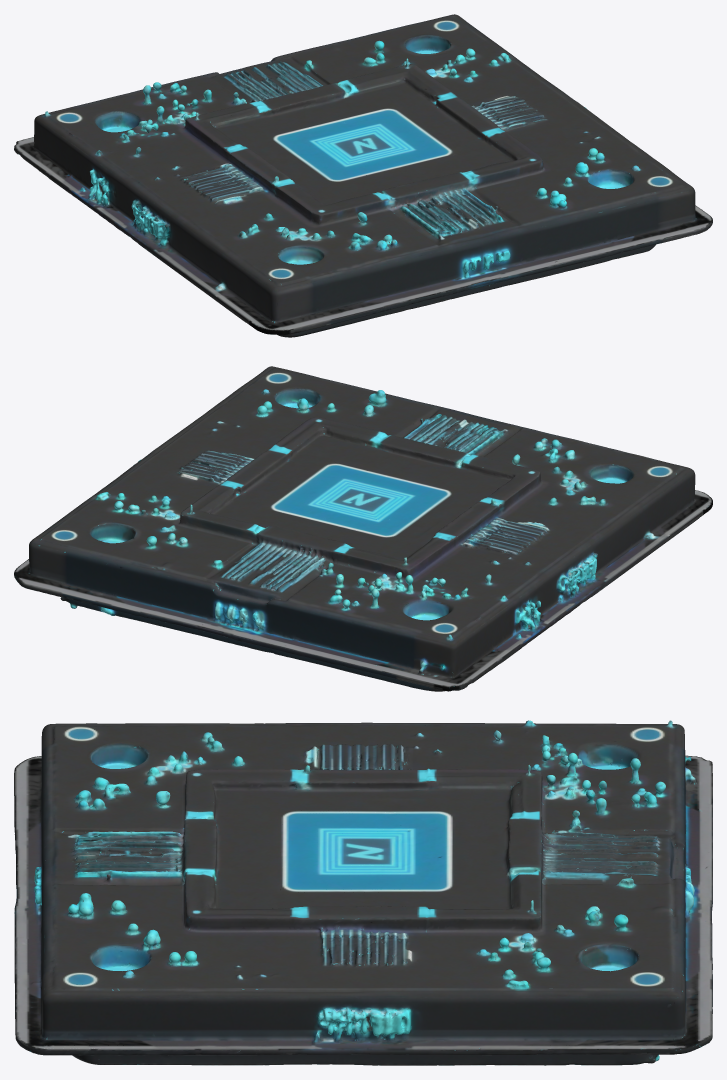
File: Meshy_AI_Futuristic_AI_microch_0519074446_texture.glb
3 views of the same model, one above another, from view 1: azimuth 30°, elevation 25°; view 2: azimuth 150°, elevation 25°; view 3: azimuth 270°, elevation 25° (orthographic). The views are drawn at different scales.
Size of the model in its own units: 2 by 0.3619 by 2.
Materials: 1 (1 with a texture image).
